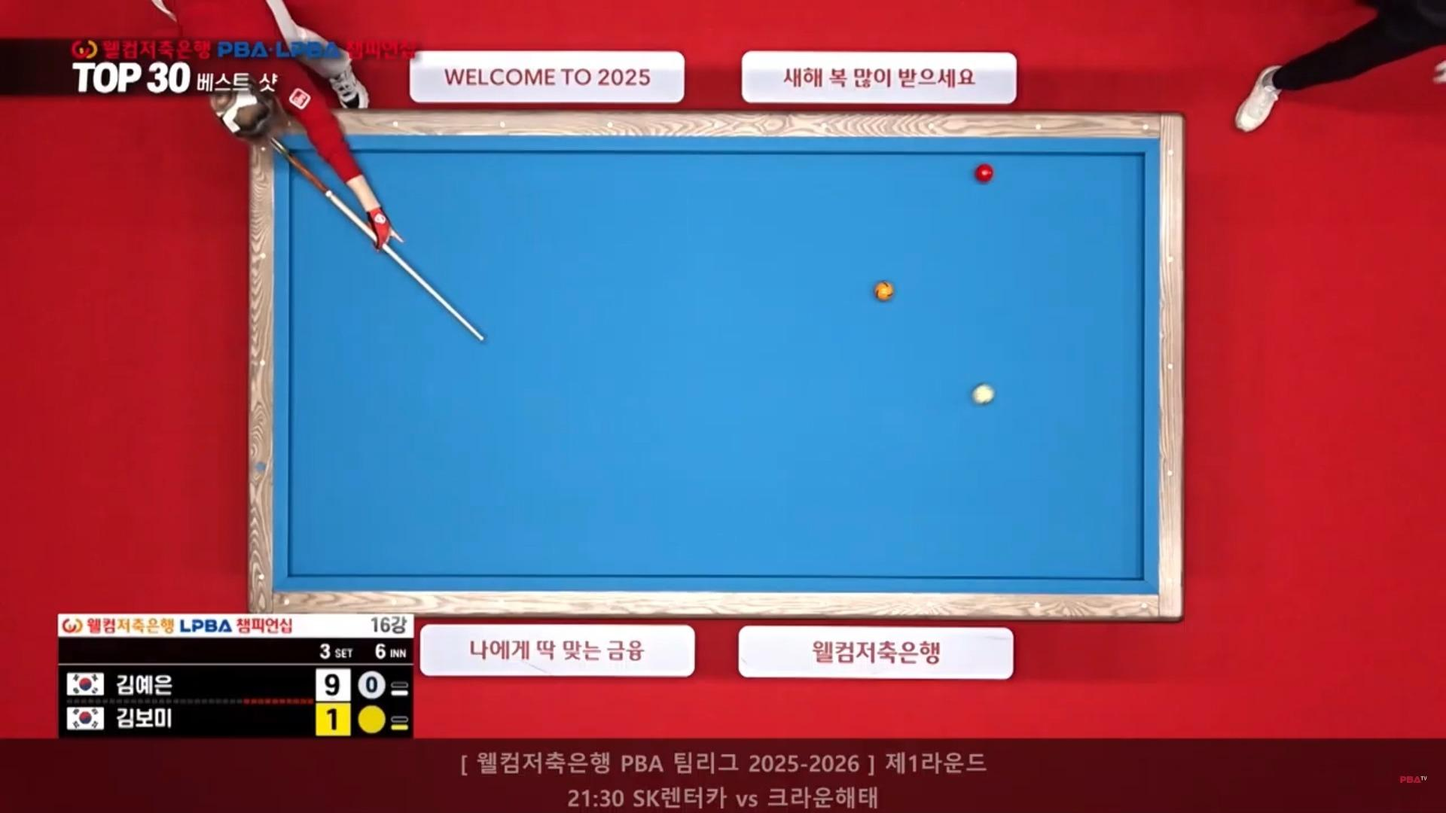Red: (971, 166, 994, 184)
White: (969, 385, 996, 407)
Yellow: (872, 283, 896, 303)
